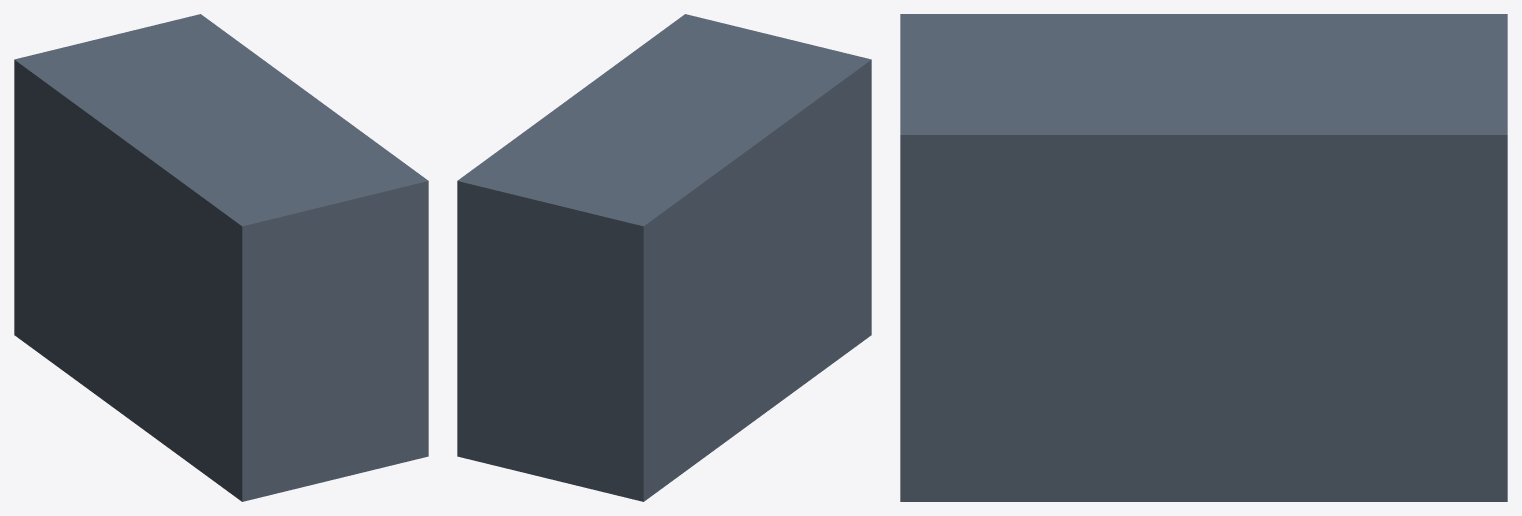
The model's file is desktop_tower.glb.
The picture shows the model from 3 angles, left to right: view 1: azimuth 30°, elevation 25°; view 2: azimuth 150°, elevation 25°; view 3: azimuth 270°, elevation 25°; orthographic projection. The views are drawn at different scales.
Parts seen in each view (by area): view 1: case_0; view 2: case_0; view 3: case_0.
Boxes of the visible parts, bbox=[...] form: case_0: bbox=[14, 14, 428, 501]; case_0: bbox=[457, 14, 871, 501]; case_0: bbox=[900, 14, 1507, 501].
Bounding box in the file's own units: 0.34 × 0.541 × 0.72.
